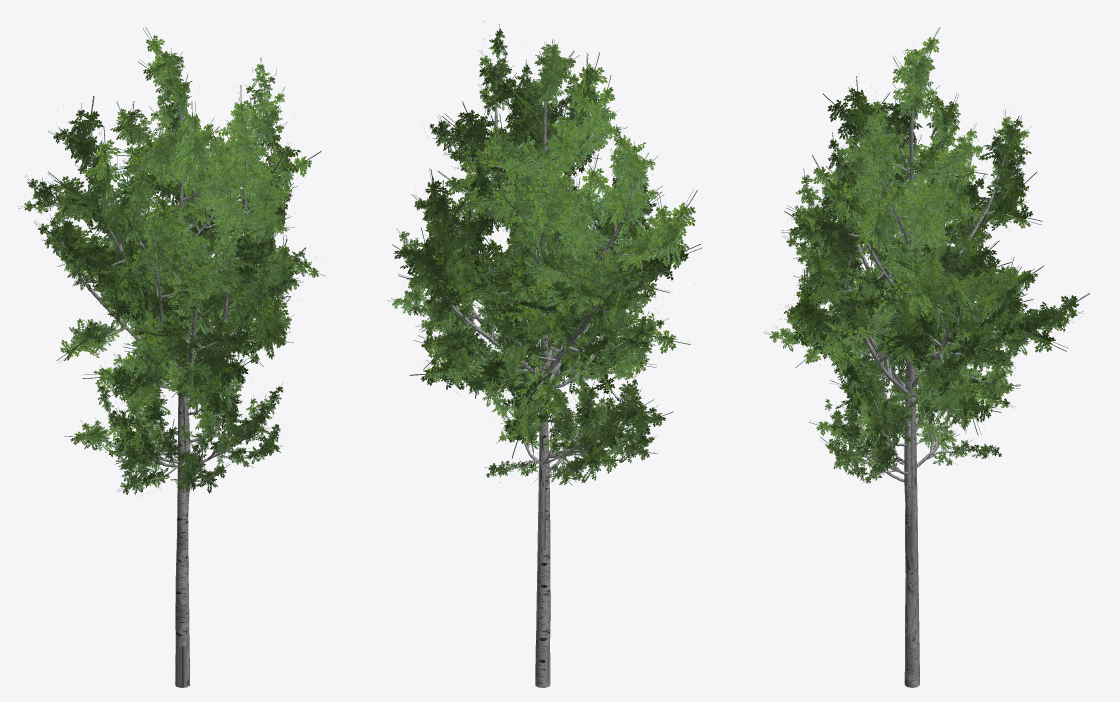
File: ez-aspen.glb
3 renders of one model, left to right at view 1: azimuth 30°, elevation 25°; view 2: azimuth 150°, elevation 25°; view 3: azimuth 270°, elevation 25°, orthographic. The views are drawn at different scales.
Visible parts, largest first — view 1: large_near, large_mid, medium_near, medium_mid; view 2: large_mid, large_near, medium_near, medium_mid; view 3: large_near, large_mid, medium_near, medium_mid.
Boxes of the visible parts, left/top/right/bottom form: large_near: left=18, top=46, right=325, bottom=687; large_mid: left=47, top=27, right=321, bottom=687; medium_near: left=80, top=269, right=282, bottom=514; medium_mid: left=64, top=269, right=280, bottom=516; large_mid: left=392, top=39, right=701, bottom=687; large_near: left=387, top=21, right=687, bottom=687; medium_near: left=424, top=251, right=657, bottom=482; medium_mid: left=413, top=261, right=673, bottom=485; large_near: left=763, top=45, right=1083, bottom=687; large_mid: left=780, top=27, right=1089, bottom=687; medium_near: left=824, top=252, right=1015, bottom=522; medium_mid: left=809, top=260, right=1013, bottom=523.
Size of the model in its own units: 8.75 by 19.55 by 9.34.
Materials: 2 (2 with a texture image).
